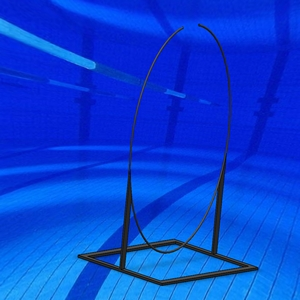circle: (77, 23, 260, 286)
